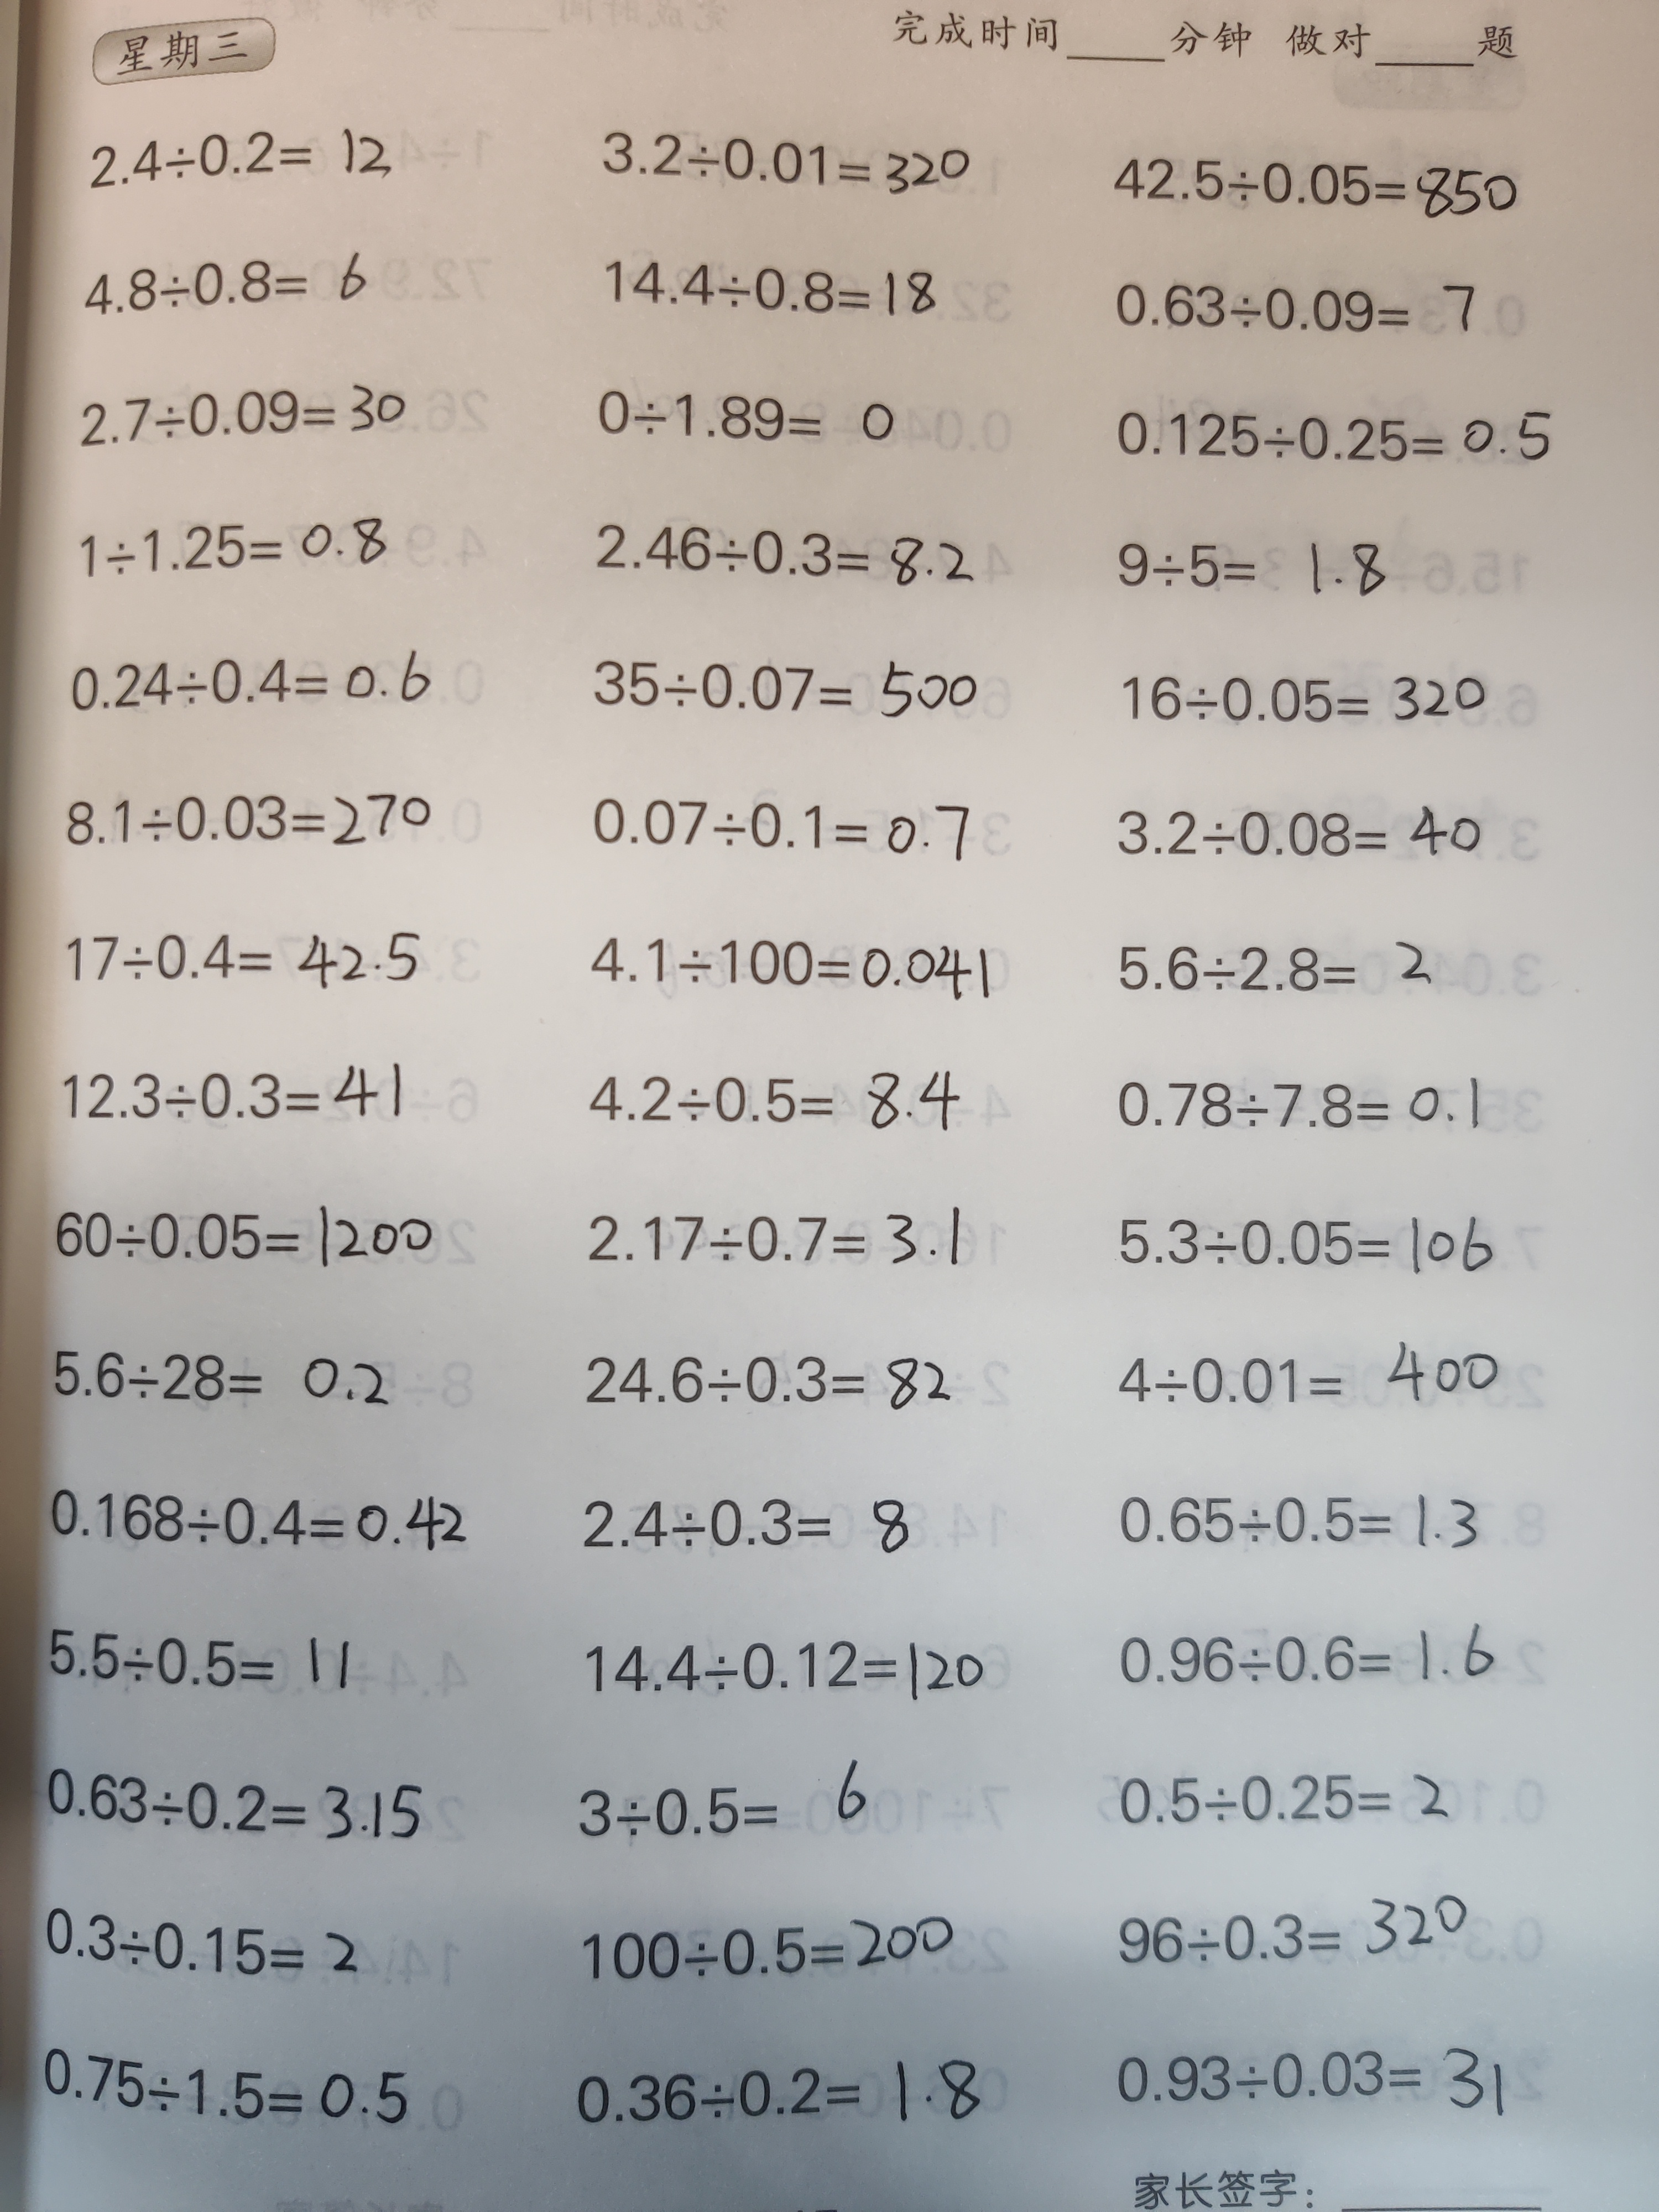equation: (552, 2022, 985, 2144), (28, 1467, 486, 1568), (28, 2020, 422, 2137), (40, 1749, 434, 1864), (556, 1895, 986, 2000), (44, 899, 429, 1015), (1089, 1606, 1511, 1712), (1100, 132, 1532, 235), (1094, 2027, 1525, 2128), (573, 505, 995, 608), (1094, 1054, 1506, 1158), (47, 1176, 455, 1278), (566, 1045, 979, 1146), (556, 1183, 967, 1284), (566, 925, 1002, 1019), (570, 784, 978, 883), (1094, 1475, 1497, 1573), (582, 643, 992, 738), (580, 115, 972, 214), (1101, 399, 1567, 482), (1105, 653, 1518, 747), (554, 1625, 995, 1712), (40, 1892, 382, 2003), (579, 239, 946, 340), (1089, 1749, 1462, 1848), (559, 1339, 971, 1428), (582, 369, 915, 479), (1100, 1205, 1502, 1296), (1089, 265, 1493, 354), (1105, 914, 1455, 1015), (1101, 1890, 1481, 1980), (35, 1609, 366, 1712), (42, 1329, 410, 1421), (549, 1749, 890, 1848), (54, 1054, 420, 1146), (63, 643, 436, 733), (1117, 796, 1485, 887), (1110, 1345, 1511, 1426), (71, 113, 420, 207), (61, 491, 410, 583), (552, 1479, 929, 1562), (73, 233, 383, 334), (66, 378, 416, 462), (49, 782, 444, 855), (1094, 526, 1398, 613)
